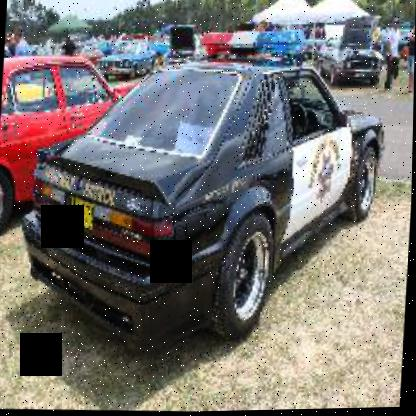emergency: (34, 16, 398, 379)
